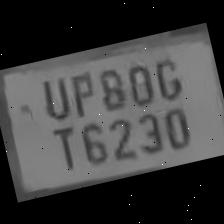0: (154, 99, 194, 152), (120, 56, 158, 106)
2: (100, 111, 140, 163)
3: (128, 104, 166, 156)
6: (72, 114, 112, 168)
8: (90, 60, 130, 114)
G: (146, 50, 186, 102)
P: (62, 65, 102, 120)
T: (44, 119, 84, 174)
U: (33, 70, 73, 122)
